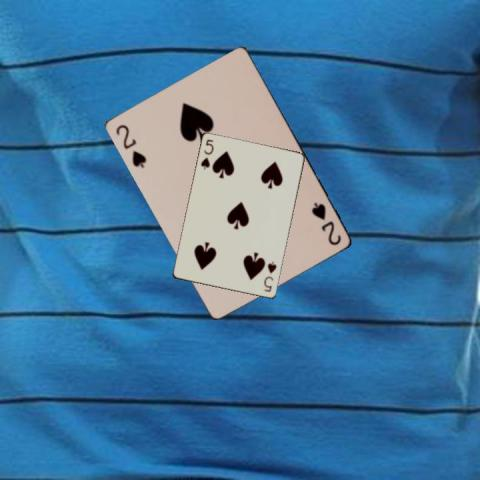2s: (113, 122, 149, 169), (309, 200, 343, 248)
5s: (261, 259, 278, 293), (198, 137, 215, 171)
